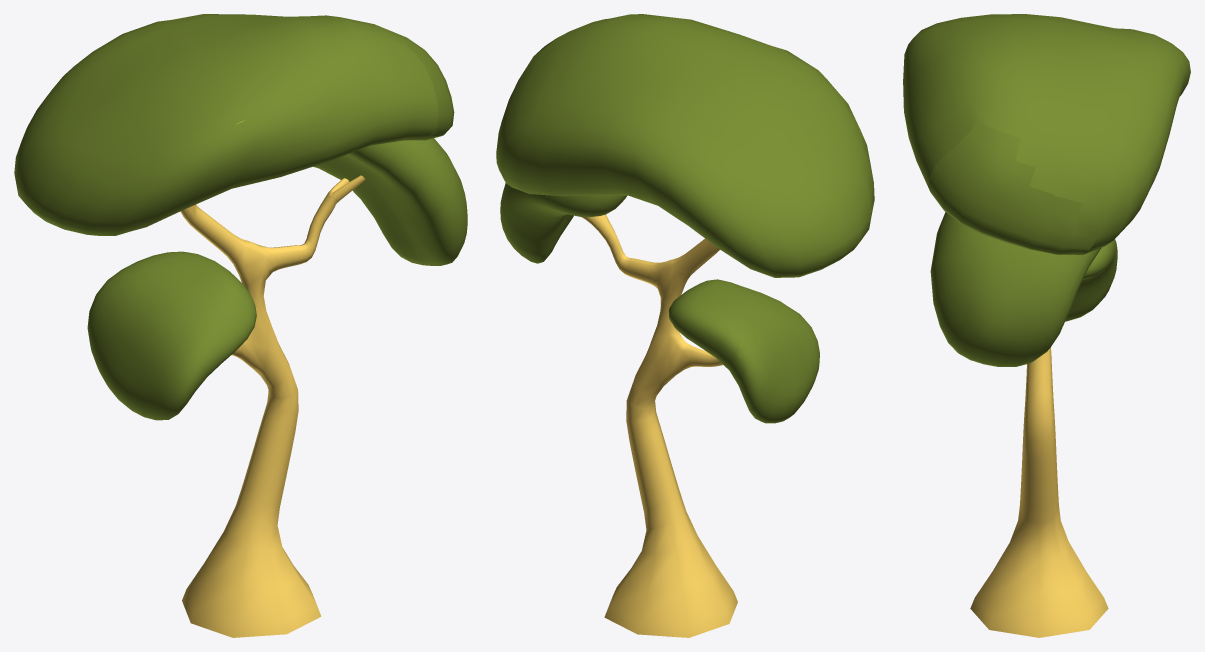
File: Tree_Tex.fbx
3 views of the same model, side by side, from view 1: azimuth 30°, elevation 25°; view 2: azimuth 150°, elevation 25°; view 3: azimuth 270°, elevation 25° (orthographic). The views are drawn at different scales.
Visible parts, largest first — view 1: Feuille_LP_3; view 2: Feuille_LP_3; view 3: Feuille_LP_3.
Part boxes in pixels (left/top/right/bottom): Feuille_LP_3: left=14, top=14, right=467, bottom=637; Feuille_LP_3: left=496, top=14, right=874, bottom=637; Feuille_LP_3: left=903, top=14, right=1190, bottom=637.
Size of the model in its own units: 158 by 228 by 102.
Materials: 1 (1 with a texture image).
